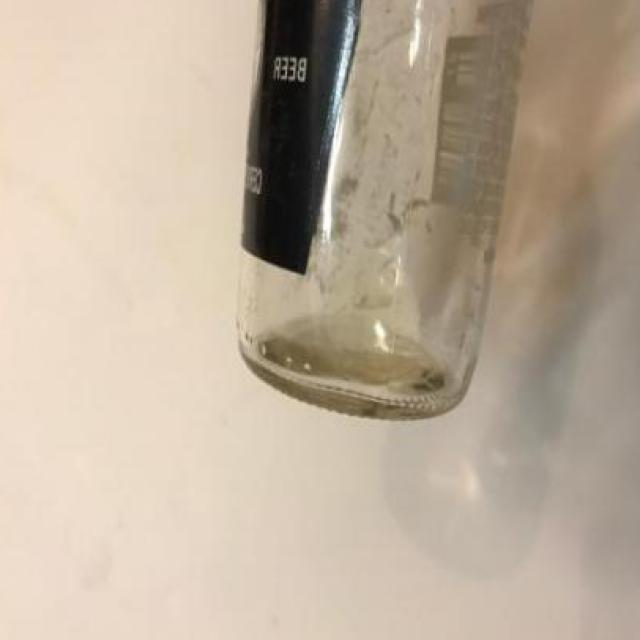kaca: (238, 0, 533, 423)
